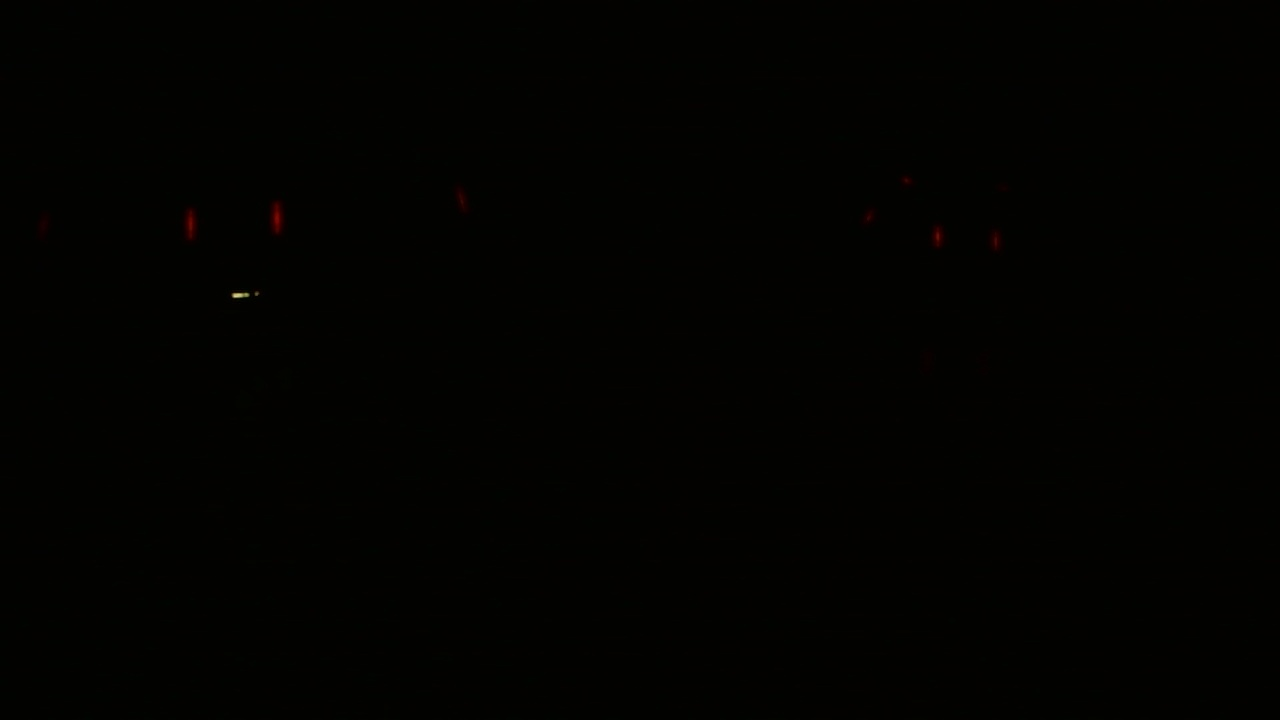pair1: (177, 201, 285, 244), (929, 222, 1005, 252)
